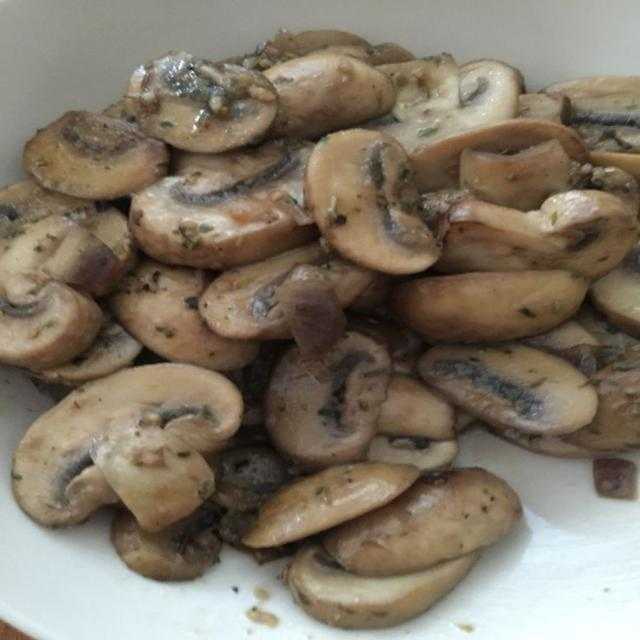champignon mushrooms: (14, 364, 242, 526), (130, 139, 317, 268), (324, 468, 522, 576), (306, 129, 439, 274), (436, 190, 639, 278), (266, 332, 390, 469), (200, 243, 376, 339), (419, 343, 598, 435), (109, 260, 258, 370), (283, 545, 478, 628), (126, 52, 278, 153), (372, 54, 522, 155), (90, 410, 214, 532), (243, 463, 419, 547), (392, 271, 589, 342), (412, 119, 588, 192), (23, 111, 168, 199), (0, 207, 135, 296), (265, 53, 395, 138), (0, 276, 102, 369), (546, 77, 639, 178), (367, 374, 458, 471), (460, 140, 573, 210), (111, 509, 221, 580), (564, 349, 639, 452), (227, 29, 414, 70), (34, 316, 142, 386), (0, 179, 95, 253), (256, 30, 414, 67), (211, 447, 291, 512), (378, 374, 454, 440), (590, 244, 639, 337), (367, 434, 458, 471), (492, 428, 595, 457), (574, 303, 639, 348), (522, 320, 599, 352), (518, 93, 570, 123)
